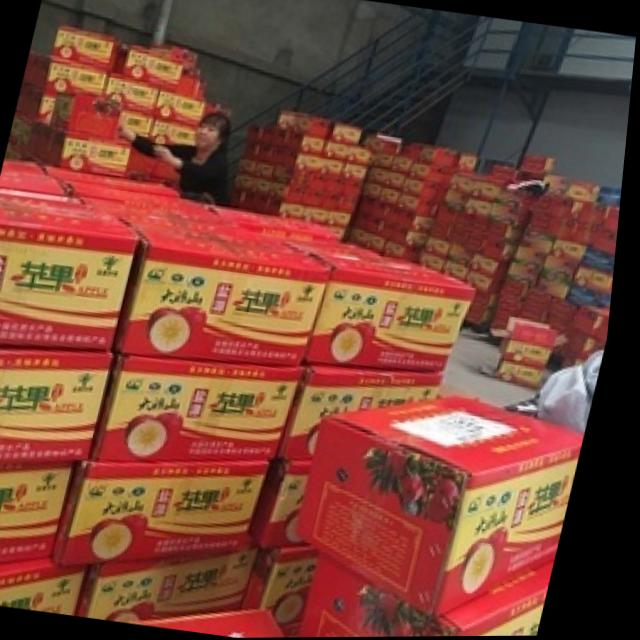box: (306, 396, 592, 618), (121, 212, 335, 367), (62, 458, 278, 567), (299, 245, 481, 372), (98, 354, 312, 462), (0, 194, 144, 351), (311, 550, 563, 638), (287, 362, 453, 461), (91, 538, 268, 623), (0, 347, 122, 464), (0, 461, 84, 565), (253, 545, 335, 635), (260, 457, 324, 548), (0, 557, 96, 614)
